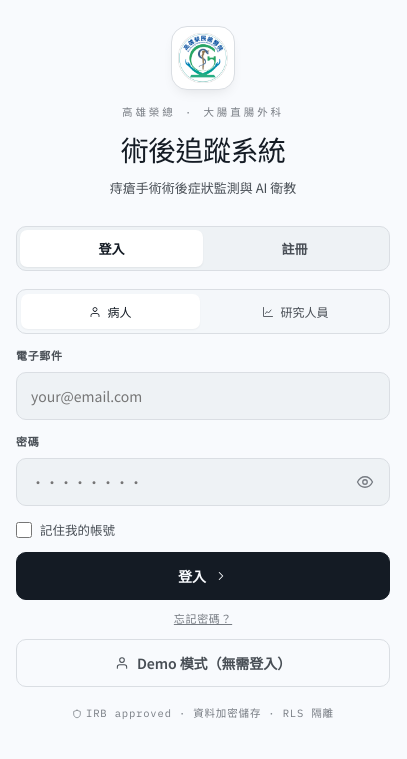
Login Page › shows generic error when error has no message
Type "test@test.com" into the field with placeholder "your@email.com" at (203, 396), box [16,372,390,420]
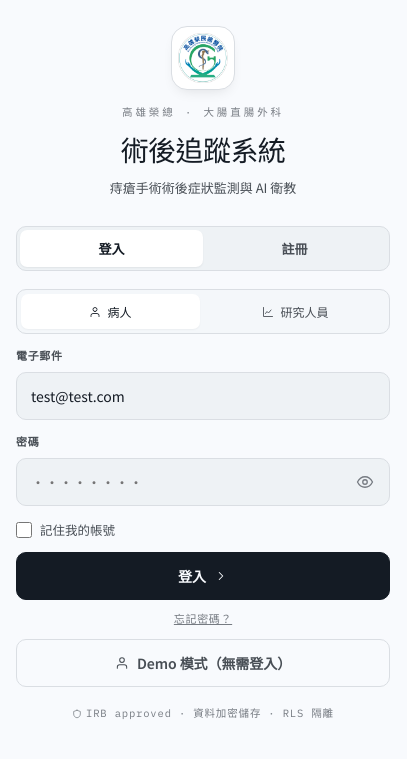
Type "wrong" into the password field with placeholder "••••••••" at (203, 482), box [16,458,390,506]
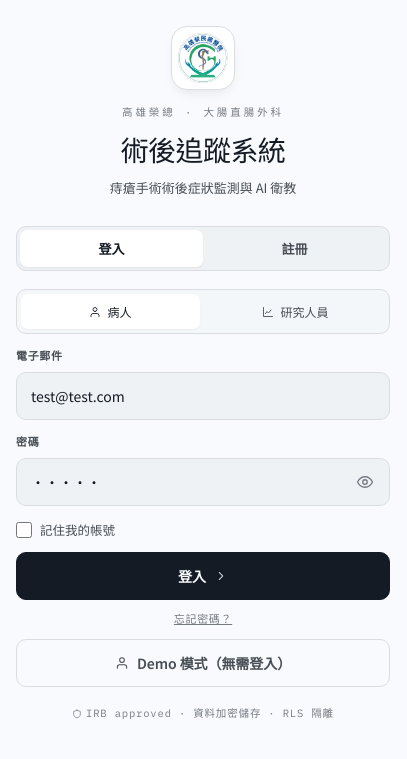
Submit the form from the submit button, box [16,552,390,600]
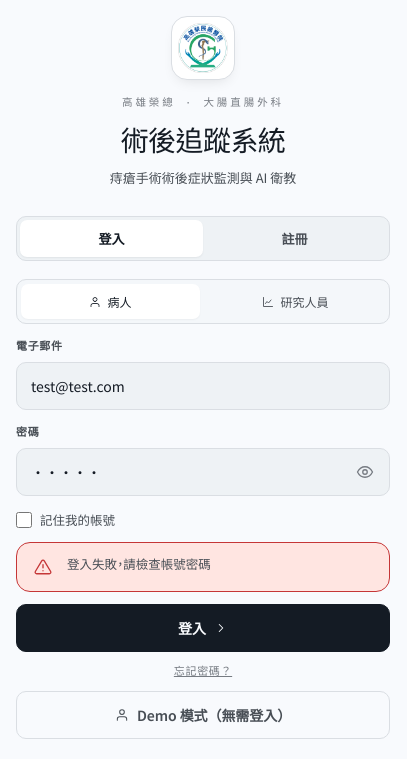
Result: the text "登入失敗，請檢查帳號密碼" is shown at [67,555,211,573]
